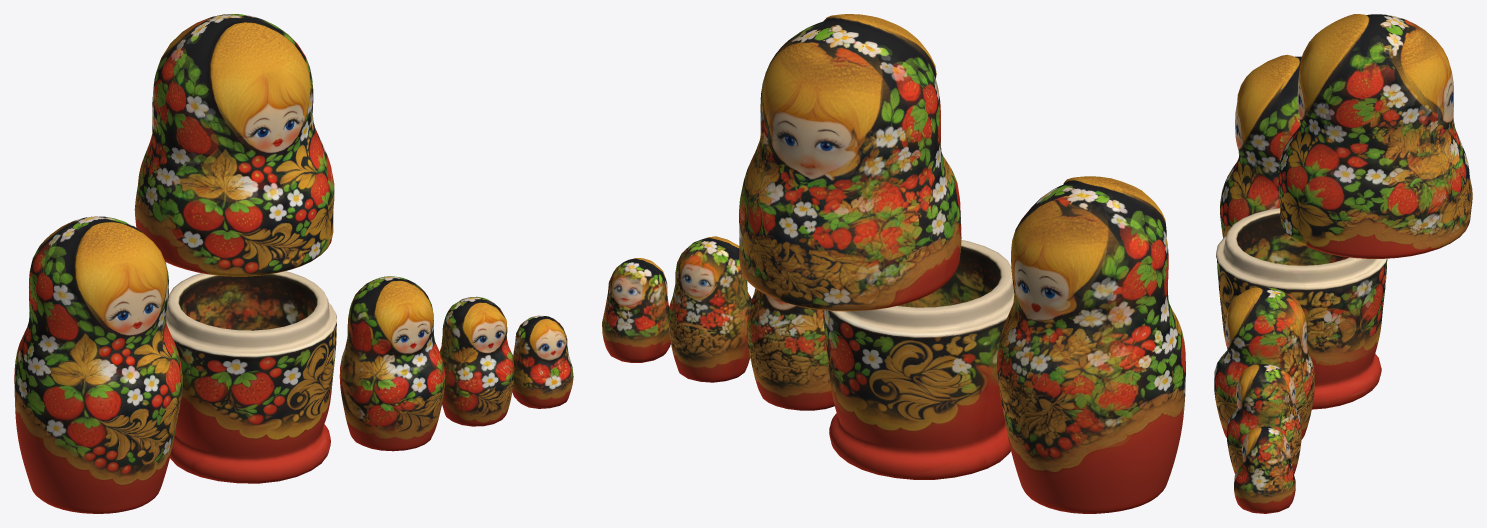
File: tripo_convert_4744d678-7ad5-44c5-8974-66f94fbf77e1.fbx
3 views of the same model, side by side, from view 1: azimuth 30°, elevation 25°; view 2: azimuth 150°, elevation 25°; view 3: azimuth 270°, elevation 25° (orthographic). The views are drawn at different scales.
Parts seen in each view (by area): view 1: tripo_node_4744d678; view 2: tripo_node_4744d678; view 3: tripo_node_4744d678.
Part boxes in pixels (box(x1,y1,x2,y2)): tripo_node_4744d678: box(14, 14, 573, 513); tripo_node_4744d678: box(602, 14, 1185, 513); tripo_node_4744d678: box(1214, 14, 1472, 513).
Size of the model in its own units: 0.9792 by 0.7092 by 0.4463.
1 material, 1 textured.
